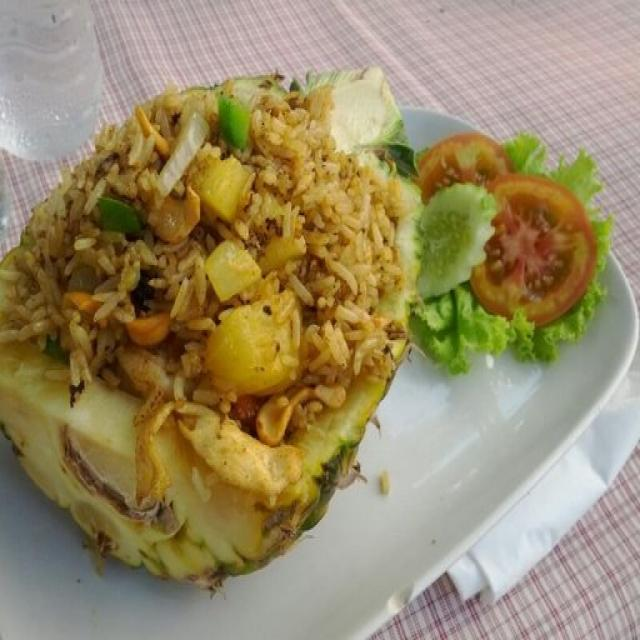Rice: (0, 66, 418, 442)
